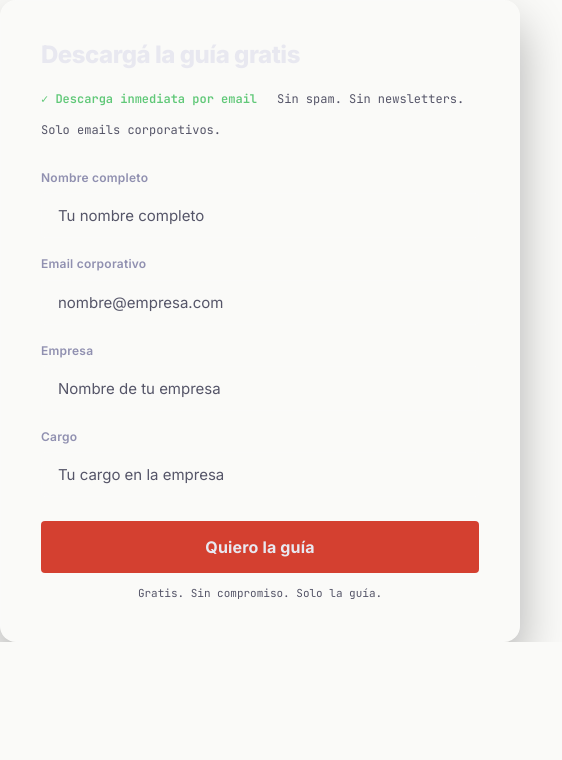
WhitePaperForm › shows validation errors on empty submit
What coordinates should you click on to do the following:
click the button "Quiero la guía"
I would click on:
 (260, 547)
Its box is x1=41 y1=521 x2=479 y2=573.
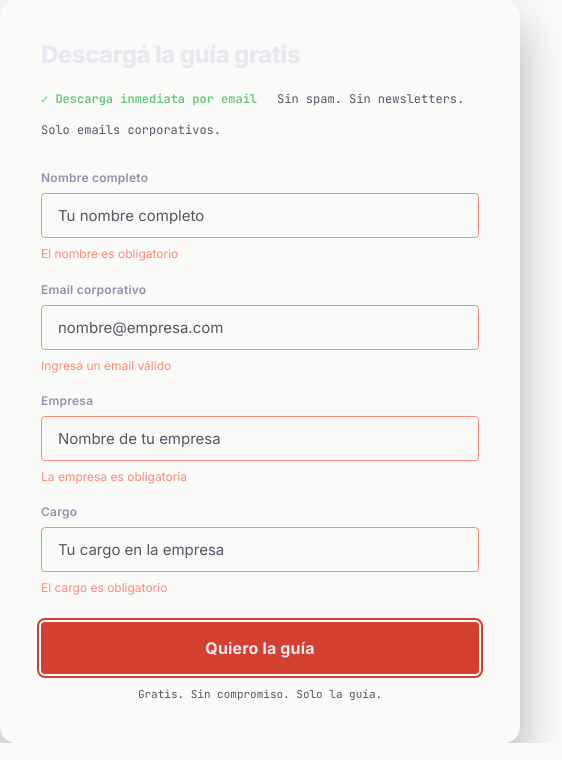
Now the text "El nombre es obligatorio" is shown, box x1=41 y1=246 x2=178 y2=261
Now the text "Ingresá un email válido" is shown, box x1=41 y1=358 x2=171 y2=373
Now the text "La empresa es obligatoria" is shown, box x1=41 y1=469 x2=187 y2=484
